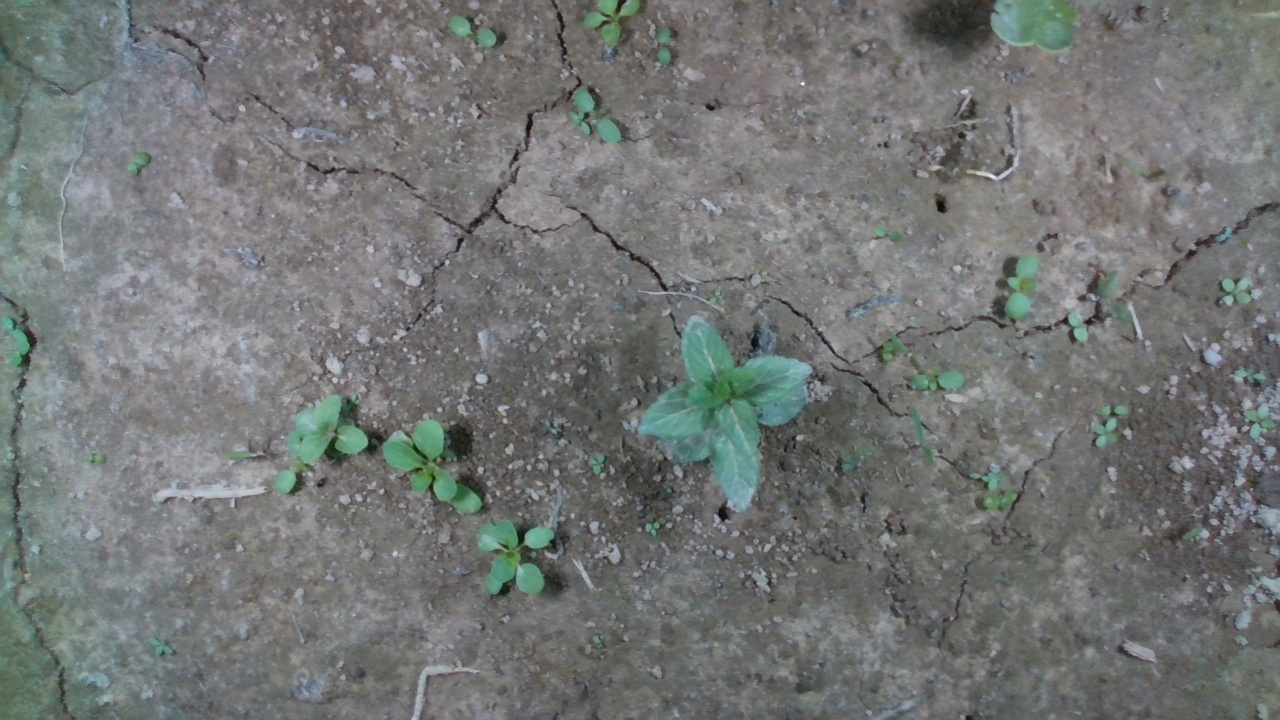weed: (573, 84, 625, 146), (1004, 254, 1041, 321), (445, 15, 499, 47), (79, 447, 129, 478), (866, 216, 908, 252), (1221, 277, 1260, 313), (647, 30, 683, 69), (903, 371, 966, 393), (1092, 416, 1121, 455), (1064, 311, 1093, 342), (881, 332, 902, 371)
